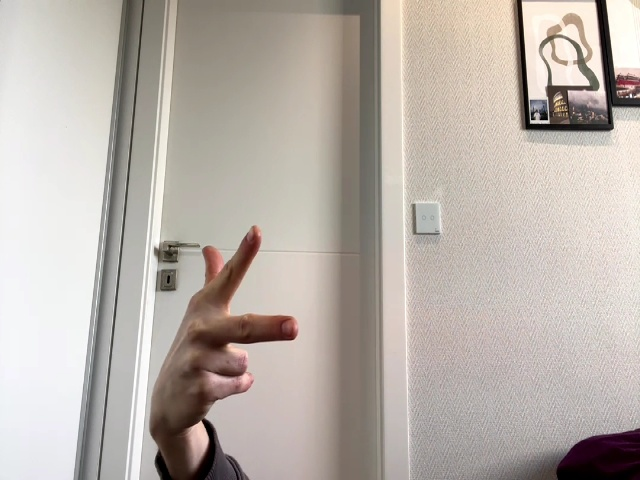K: (157, 226, 297, 419)
